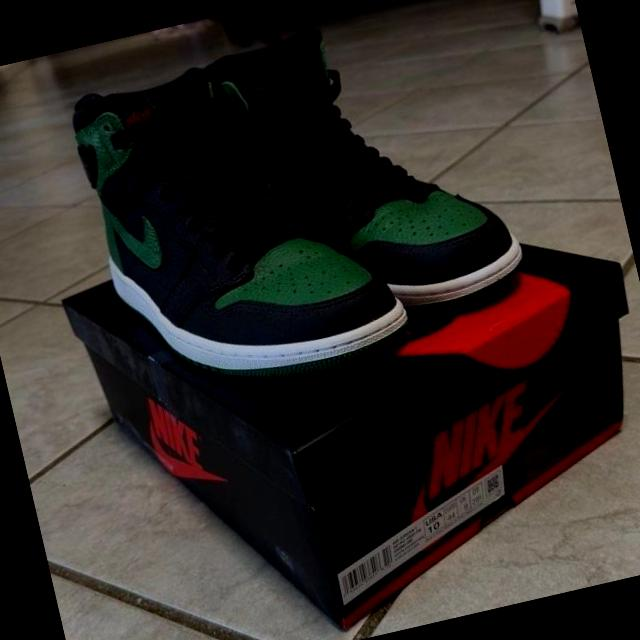nike_original_jordan: (51, 24, 422, 416), (155, 0, 536, 359)
